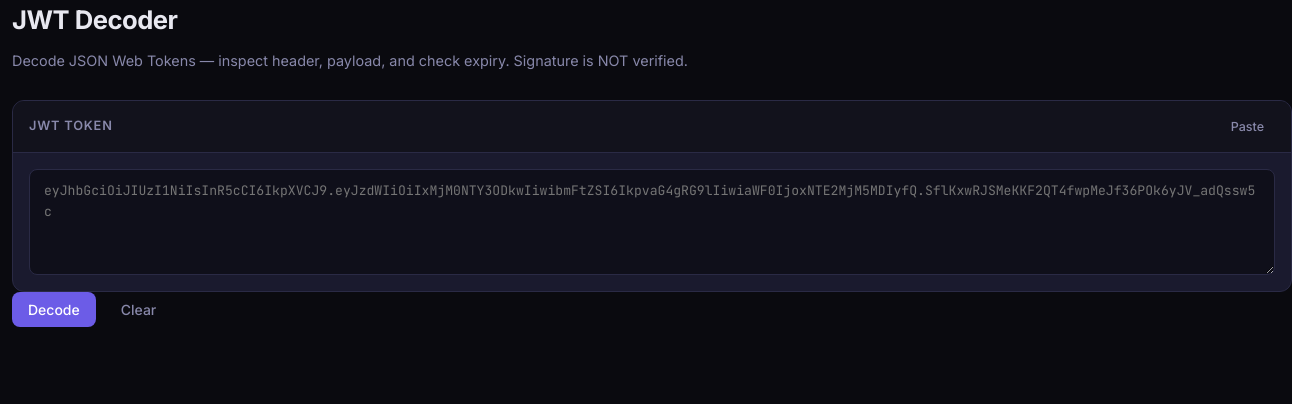
JwtDecoder › shows error for invalid base64 in token
This screenshot has width=1292, height=404.
Step 1. Replace the text in the text box with "a.b.c" → [652, 222], box [29, 169, 1275, 275]
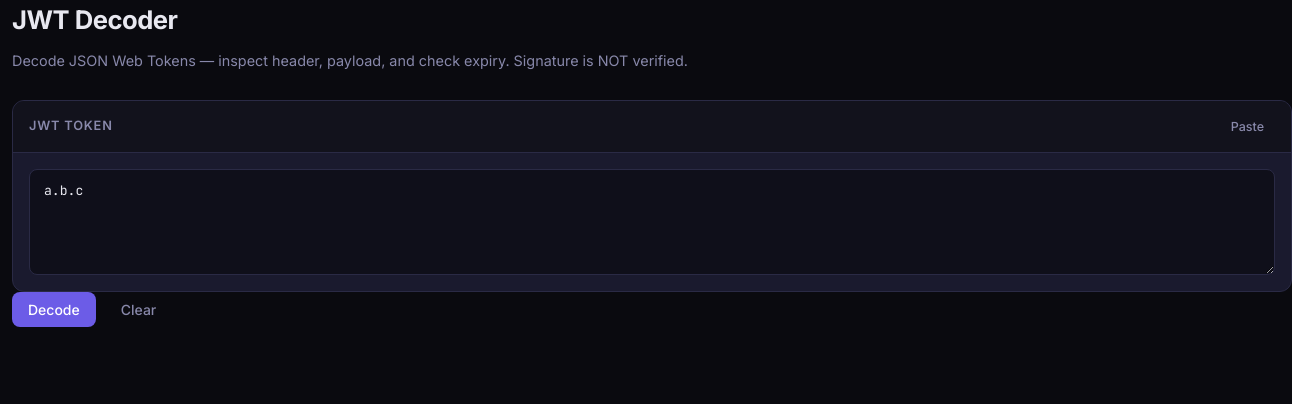
Step 2. Click the button "Decode" → [54, 309], box [12, 292, 96, 327]
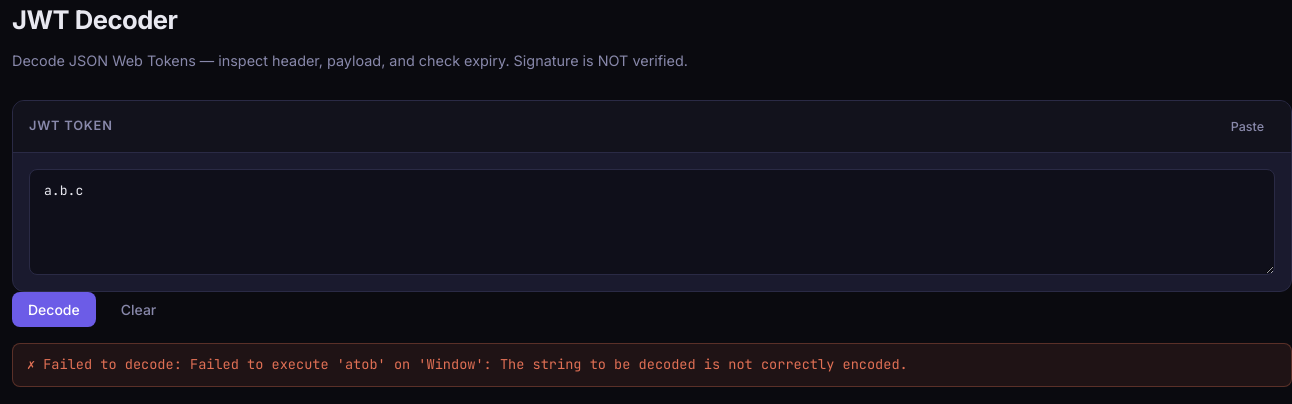
Expected: the text "Failed to decode" is shown, [43, 355, 908, 373]
